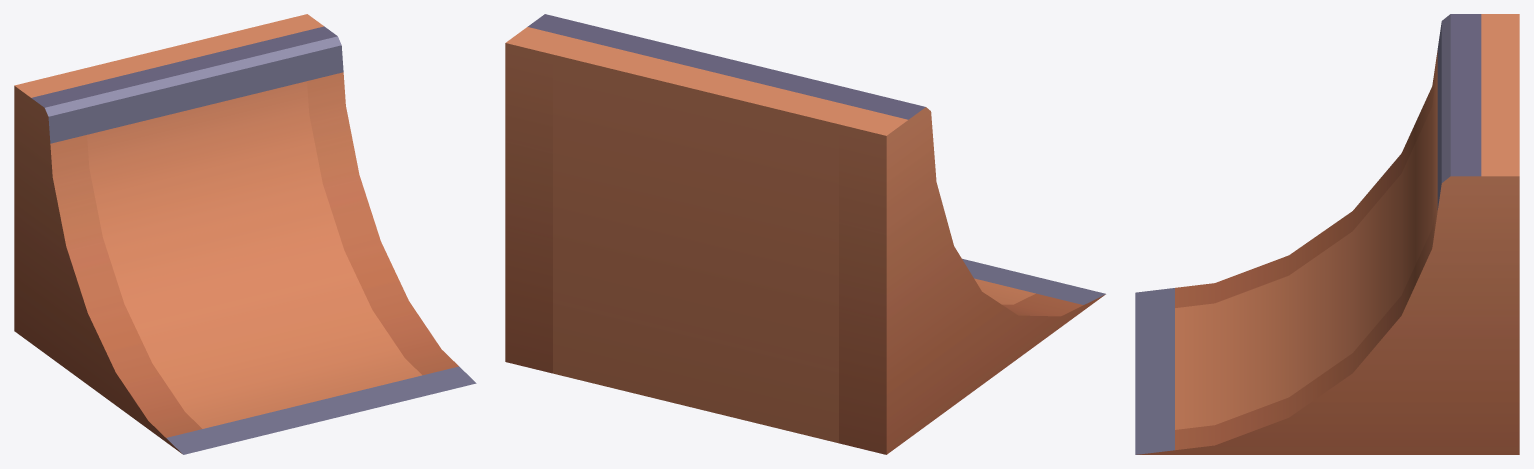
Rendered from halfpipe.glb.
The picture shows the model from 3 angles, left to right: view 1: azimuth 30°, elevation 25°; view 2: azimuth 150°, elevation 25°; view 3: azimuth 270°, elevation 25°; orthographic projection. The views are drawn at different scales.
Visible parts, largest first — view 1: half-pipe; view 2: half-pipe; view 3: half-pipe.
Part boxes in pixels (bbox=[...]): half-pipe: bbox=[14, 14, 476, 454]; half-pipe: bbox=[505, 14, 1105, 454]; half-pipe: bbox=[1135, 14, 1519, 454].
Bounding box in the file's own units: 1 × 0.8 × 1.
1 material, 1 textured.
